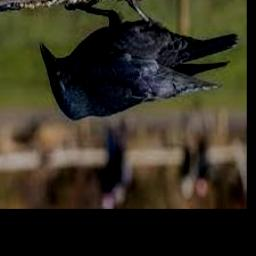Crow: (40, 0, 239, 122)
